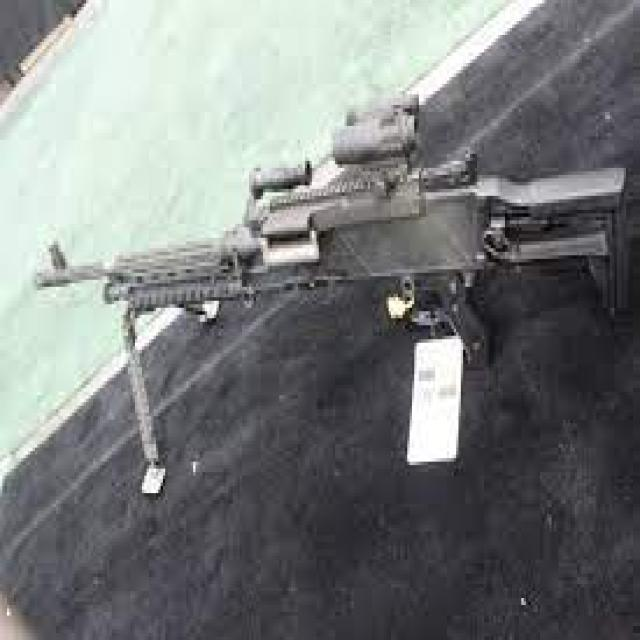Gun: (17, 91, 635, 461)
